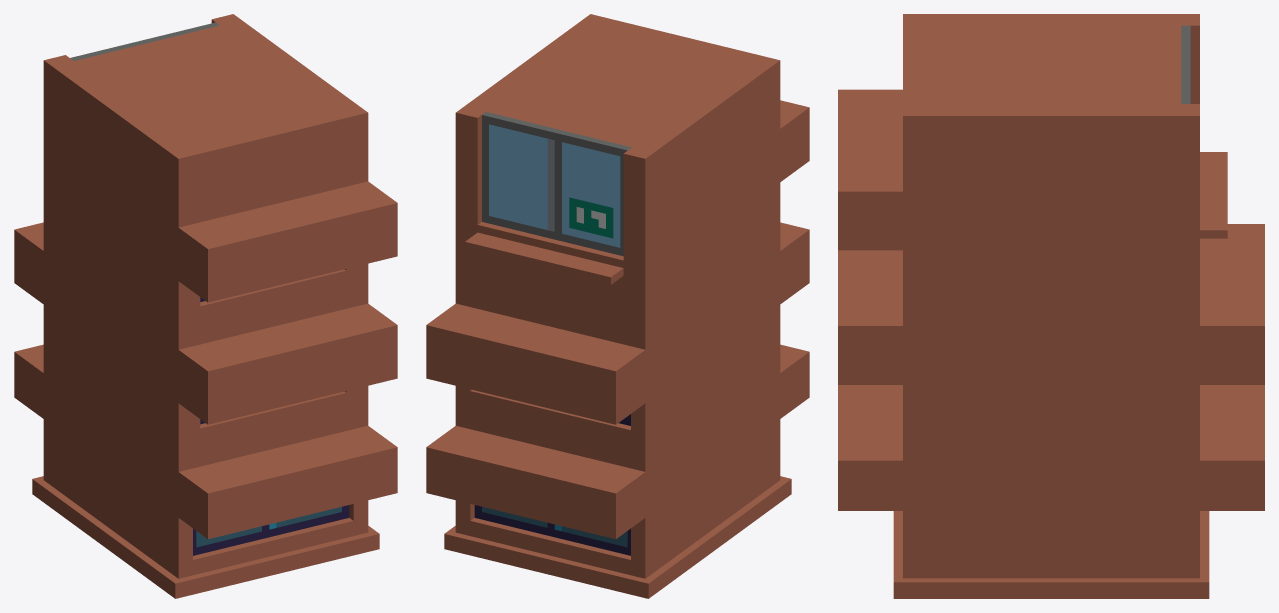
Rendered from Matsumoto7.fbx.
3 views of the same model, side by side, from view 1: azimuth 30°, elevation 25°; view 2: azimuth 150°, elevation 25°; view 3: azimuth 270°, elevation 25° (orthographic). The views are drawn at different scales.
Visible parts, largest first — view 1: palette; view 2: palette; view 3: palette.
Boxes of the visible parts, <box> form: palette: <box>14,14,397,598</box>; palette: <box>426,14,809,598</box>; palette: <box>838,14,1264,598</box>.
Bounding box in the file's own units: 28 × 57 × 46.
Materials: 1 (1 with a texture image).
